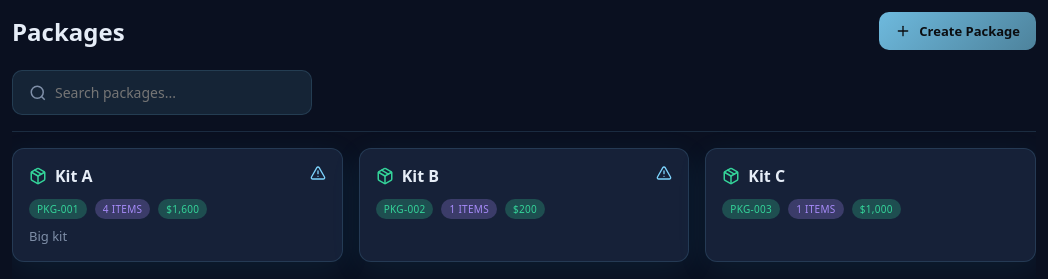
it: Packages list › search matches the package category
Type "audio" into the field with placeholder "Search packages...". click: [175, 92]
box: 55,83 -> 295,102
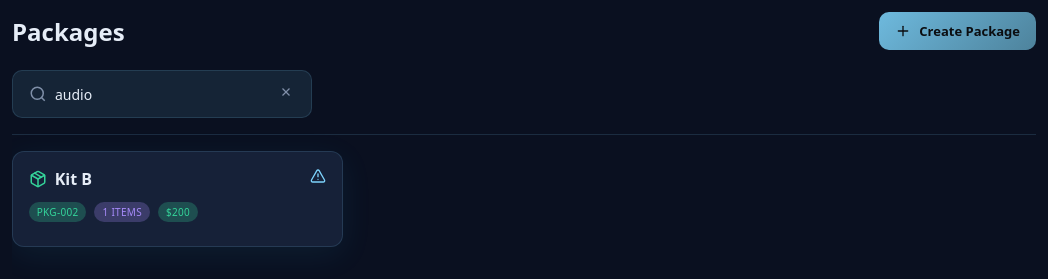
Expected: the heading "Kit B" is shown, 55,168 -> 92,190
Expected: the button "Kit A" is gone
